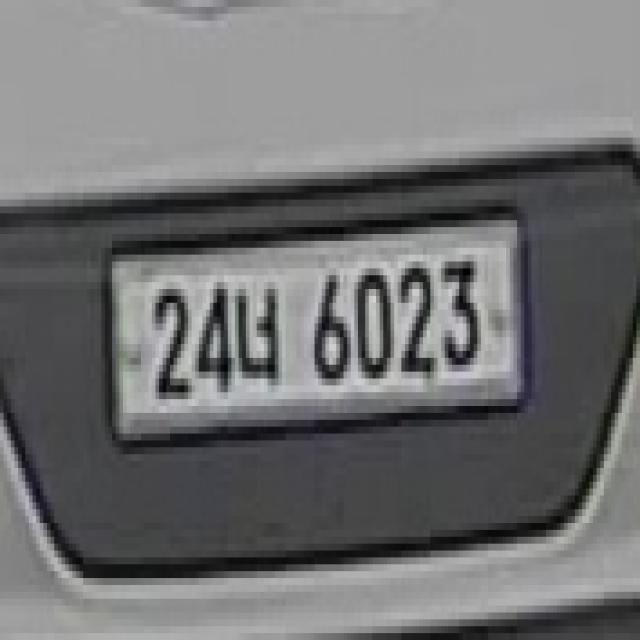0: (354, 257, 394, 388)
2: (146, 286, 196, 402), (398, 252, 440, 384)
3: (440, 244, 490, 386)
4: (198, 269, 237, 399)
6: (306, 260, 352, 390)
license_plate: (114, 222, 522, 431)
neo: (238, 271, 290, 401)
